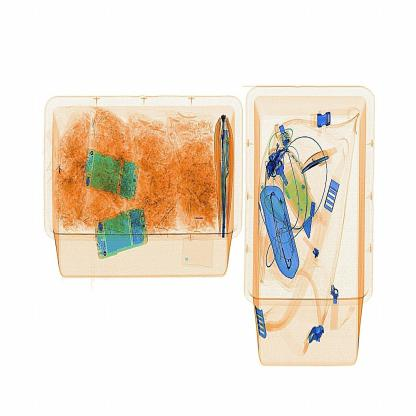pliers: (297, 137, 340, 184)
